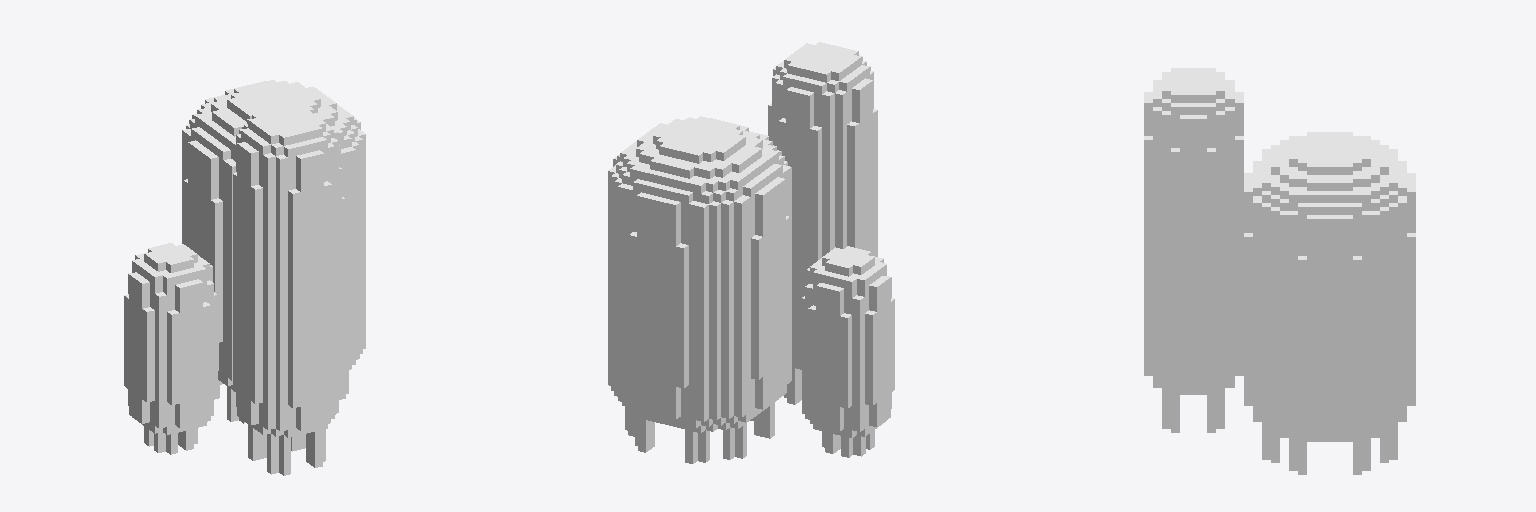
File: waste_liquid.obj
The picture shows the model from 3 angles: view 1: azimuth 30°, elevation 25°; view 2: azimuth 150°, elevation 25°; view 3: azimuth 270°, elevation 25°; orthographic projection.
Parts seen in each view (by area): view 1: object 1; view 2: object 1; view 3: object 1.
Part boxes in pixels (x1,y1,x2,y2): object 1: (124, 80, 365, 475); object 1: (608, 42, 894, 463); object 1: (1144, 68, 1415, 474).
Size of the model in its own units: 3 by 4.1 by 3.